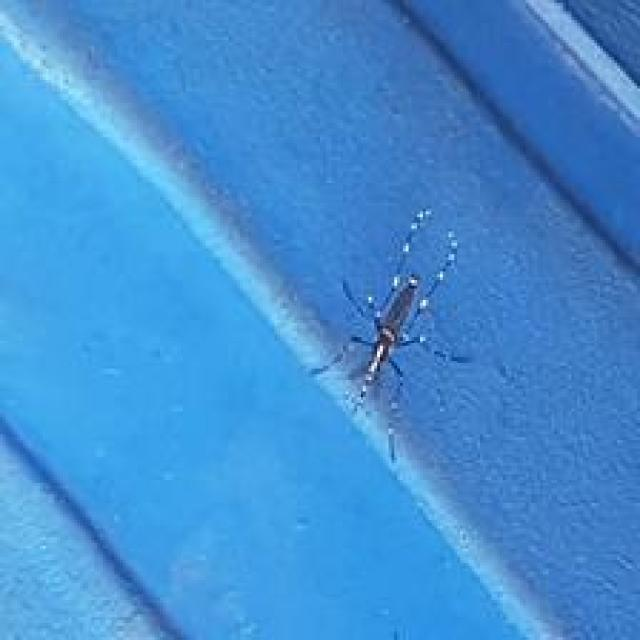Aedes albopictus: (308, 206, 468, 406)
